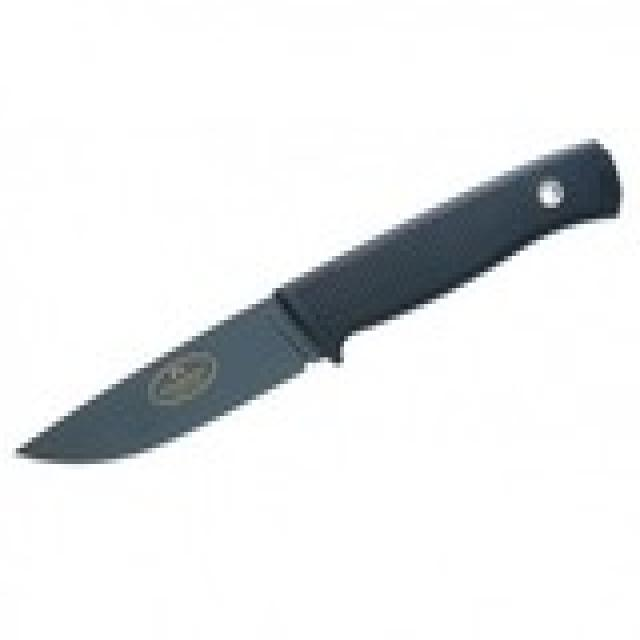Knife: (15, 124, 633, 473)
